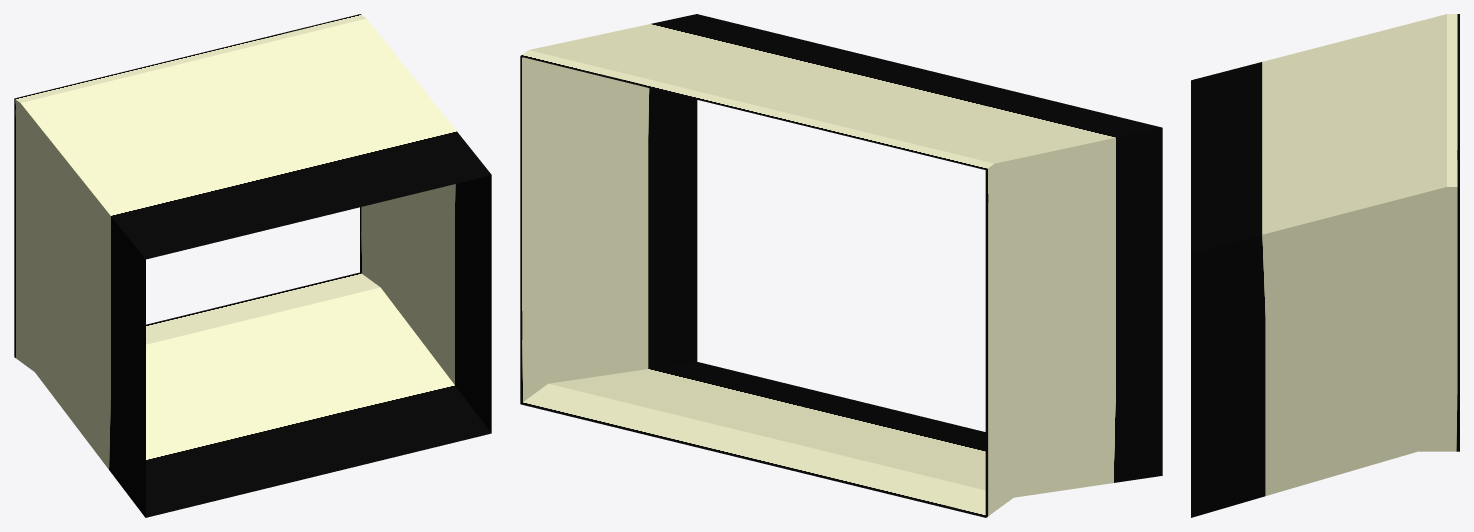
File: fake_light_window_2_double.obj
3 renders of one model, left to right at view 1: azimuth 30°, elevation 25°; view 2: azimuth 150°, elevation 25°; view 3: azimuth 270°, elevation 25°, orthographic. The views are drawn at different scales.
Parts seen in each view (by area): view 1: fake_light_window_2_double; view 2: fake_light_window_2_double; view 3: fake_light_window_2_double.
Boxes of the visible parts, left/top/right/bottom form: fake_light_window_2_double: left=14, top=14, right=491, bottom=517; fake_light_window_2_double: left=520, top=14, right=1162, bottom=517; fake_light_window_2_double: left=1191, top=14, right=1459, bottom=517.
Bounding box in the file's own units: 2.24 × 2 × 1.47.
